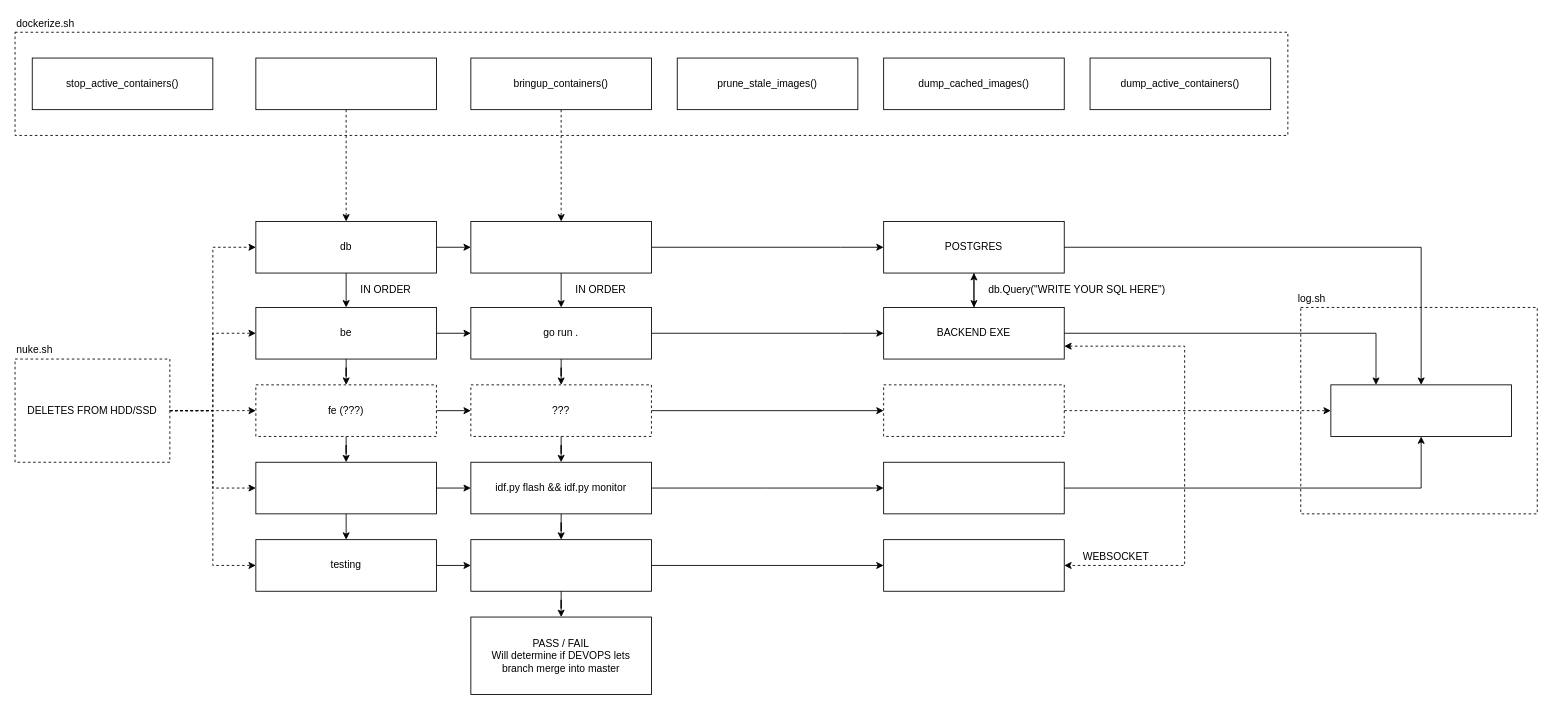
The diagram is 1552 pixels wide and 710 high, and some of its shapes have lost their labels. The box of each missing label's shape, as (x1, y1, x2, y2) in pixels:
build_container_images(): (255, 57, 436, 110)
create.sql: (470, 221, 651, 273)
ESP32: (883, 461, 1064, 514)
FRONTEND EXE (???): (883, 384, 1064, 436)
fw: (255, 461, 436, 514)
go test .: (470, 539, 651, 591)
STDOUT: (1330, 384, 1511, 436)
test_ping.go: (883, 539, 1064, 591)
